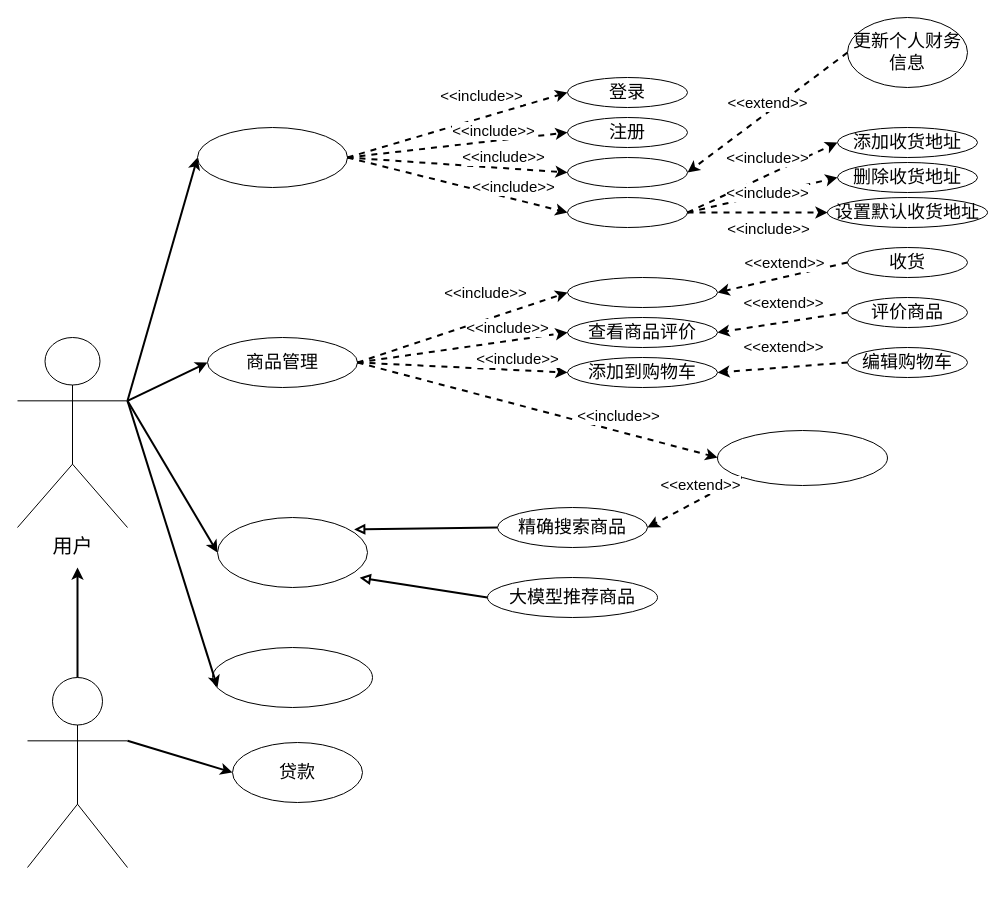
The diagram is 1005 pixels wide and 916 high, and some of its shapes have lost their labels. The box of each missing label's shape, as (x1, y1, x2, y2) in pixels:
下单: (566, 276, 718, 308)
可贷款用户: (26, 676, 128, 868)
寻找特定商品: (216, 516, 368, 588)
收获地址管理: (566, 196, 688, 228)
更新个人信息: (566, 156, 688, 188)
查看商品信息: (716, 430, 888, 486)
查看贷款资质: (212, 646, 372, 708)
用户信息管理: (196, 126, 348, 188)
